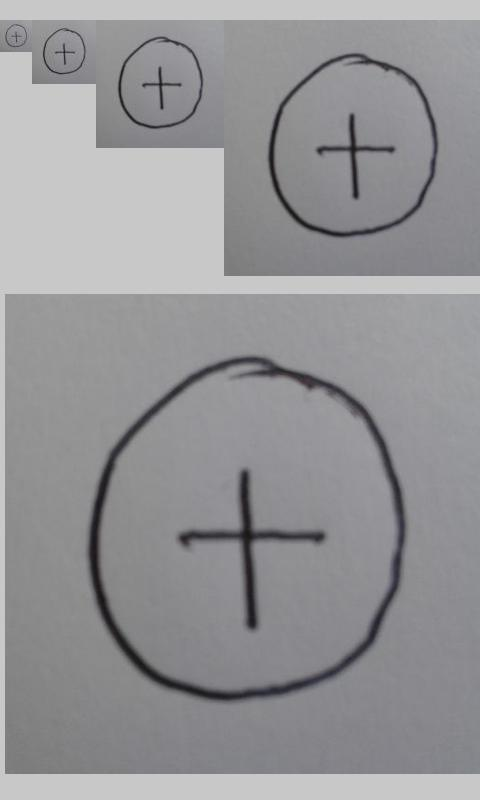button: (85, 352, 409, 706), (267, 52, 438, 239), (117, 36, 204, 129), (42, 27, 87, 75), (5, 23, 28, 48)
